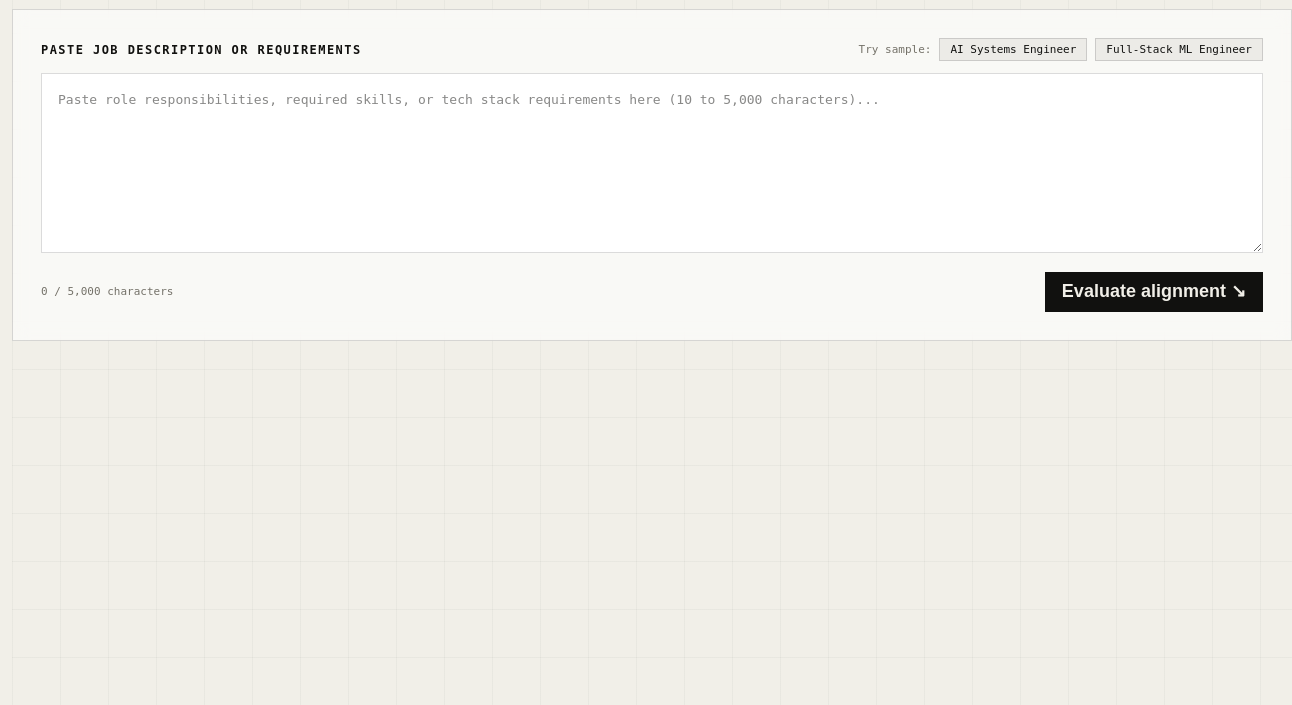
Test case: JobMatcher component › links project evidence to the case study and shows the real claim and citation
The image size is (1292, 705).
Replace the text in the text box labelled "Paste Job Description or Requirements" with "Senior AI Engineer with Autonomous Agents" at (652, 163), box [41,73,1263,253]
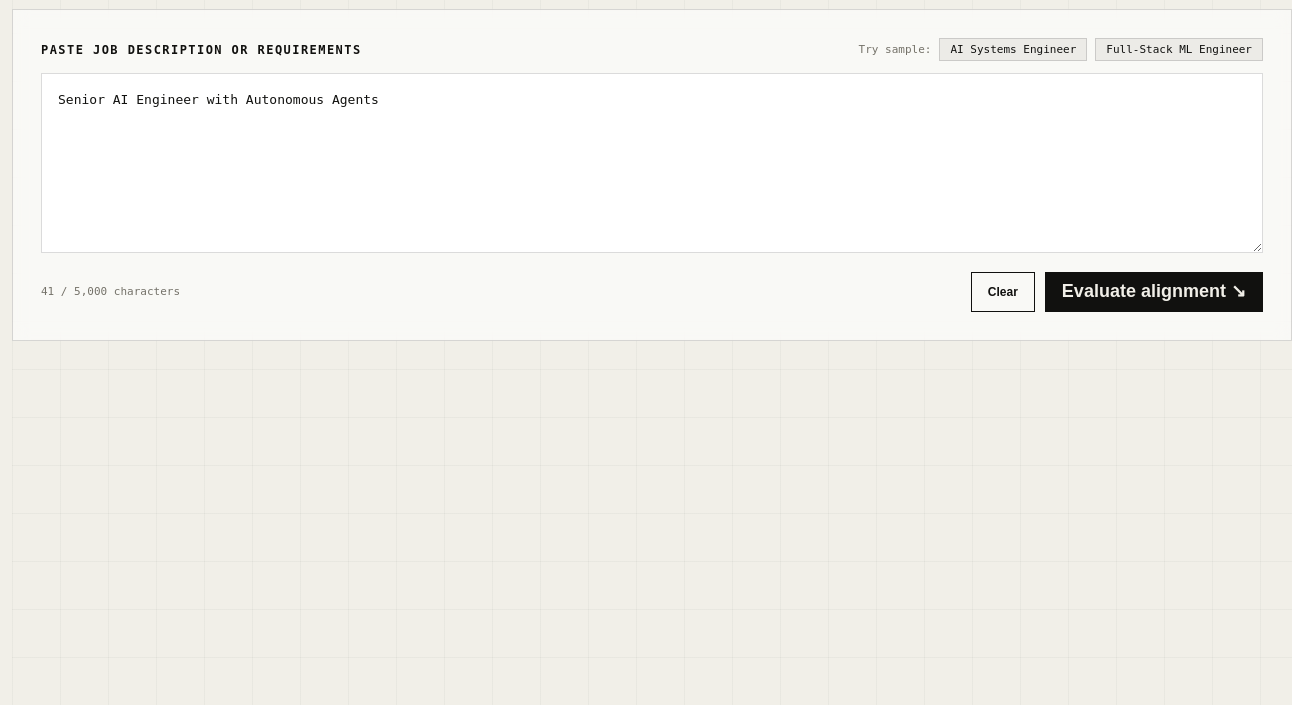
Click the button "Evaluate alignment ↘".
click(1154, 292)  # box [1045,272,1263,312]
(page scrolled)
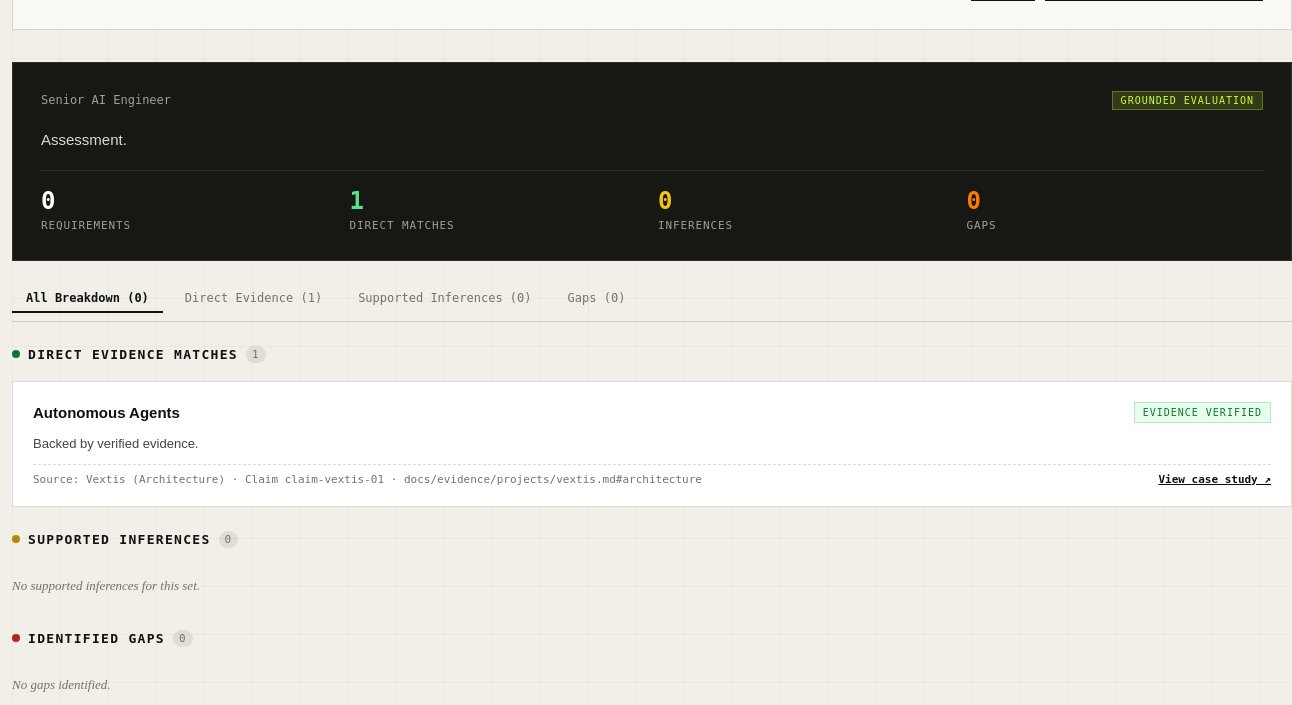
Expected: the text "claim-vextis-01" is shown, [285,473,384,486]
Expected: the text "docs/evidence/projects/vextis.md#architecture" is shown, [404,473,702,486]
